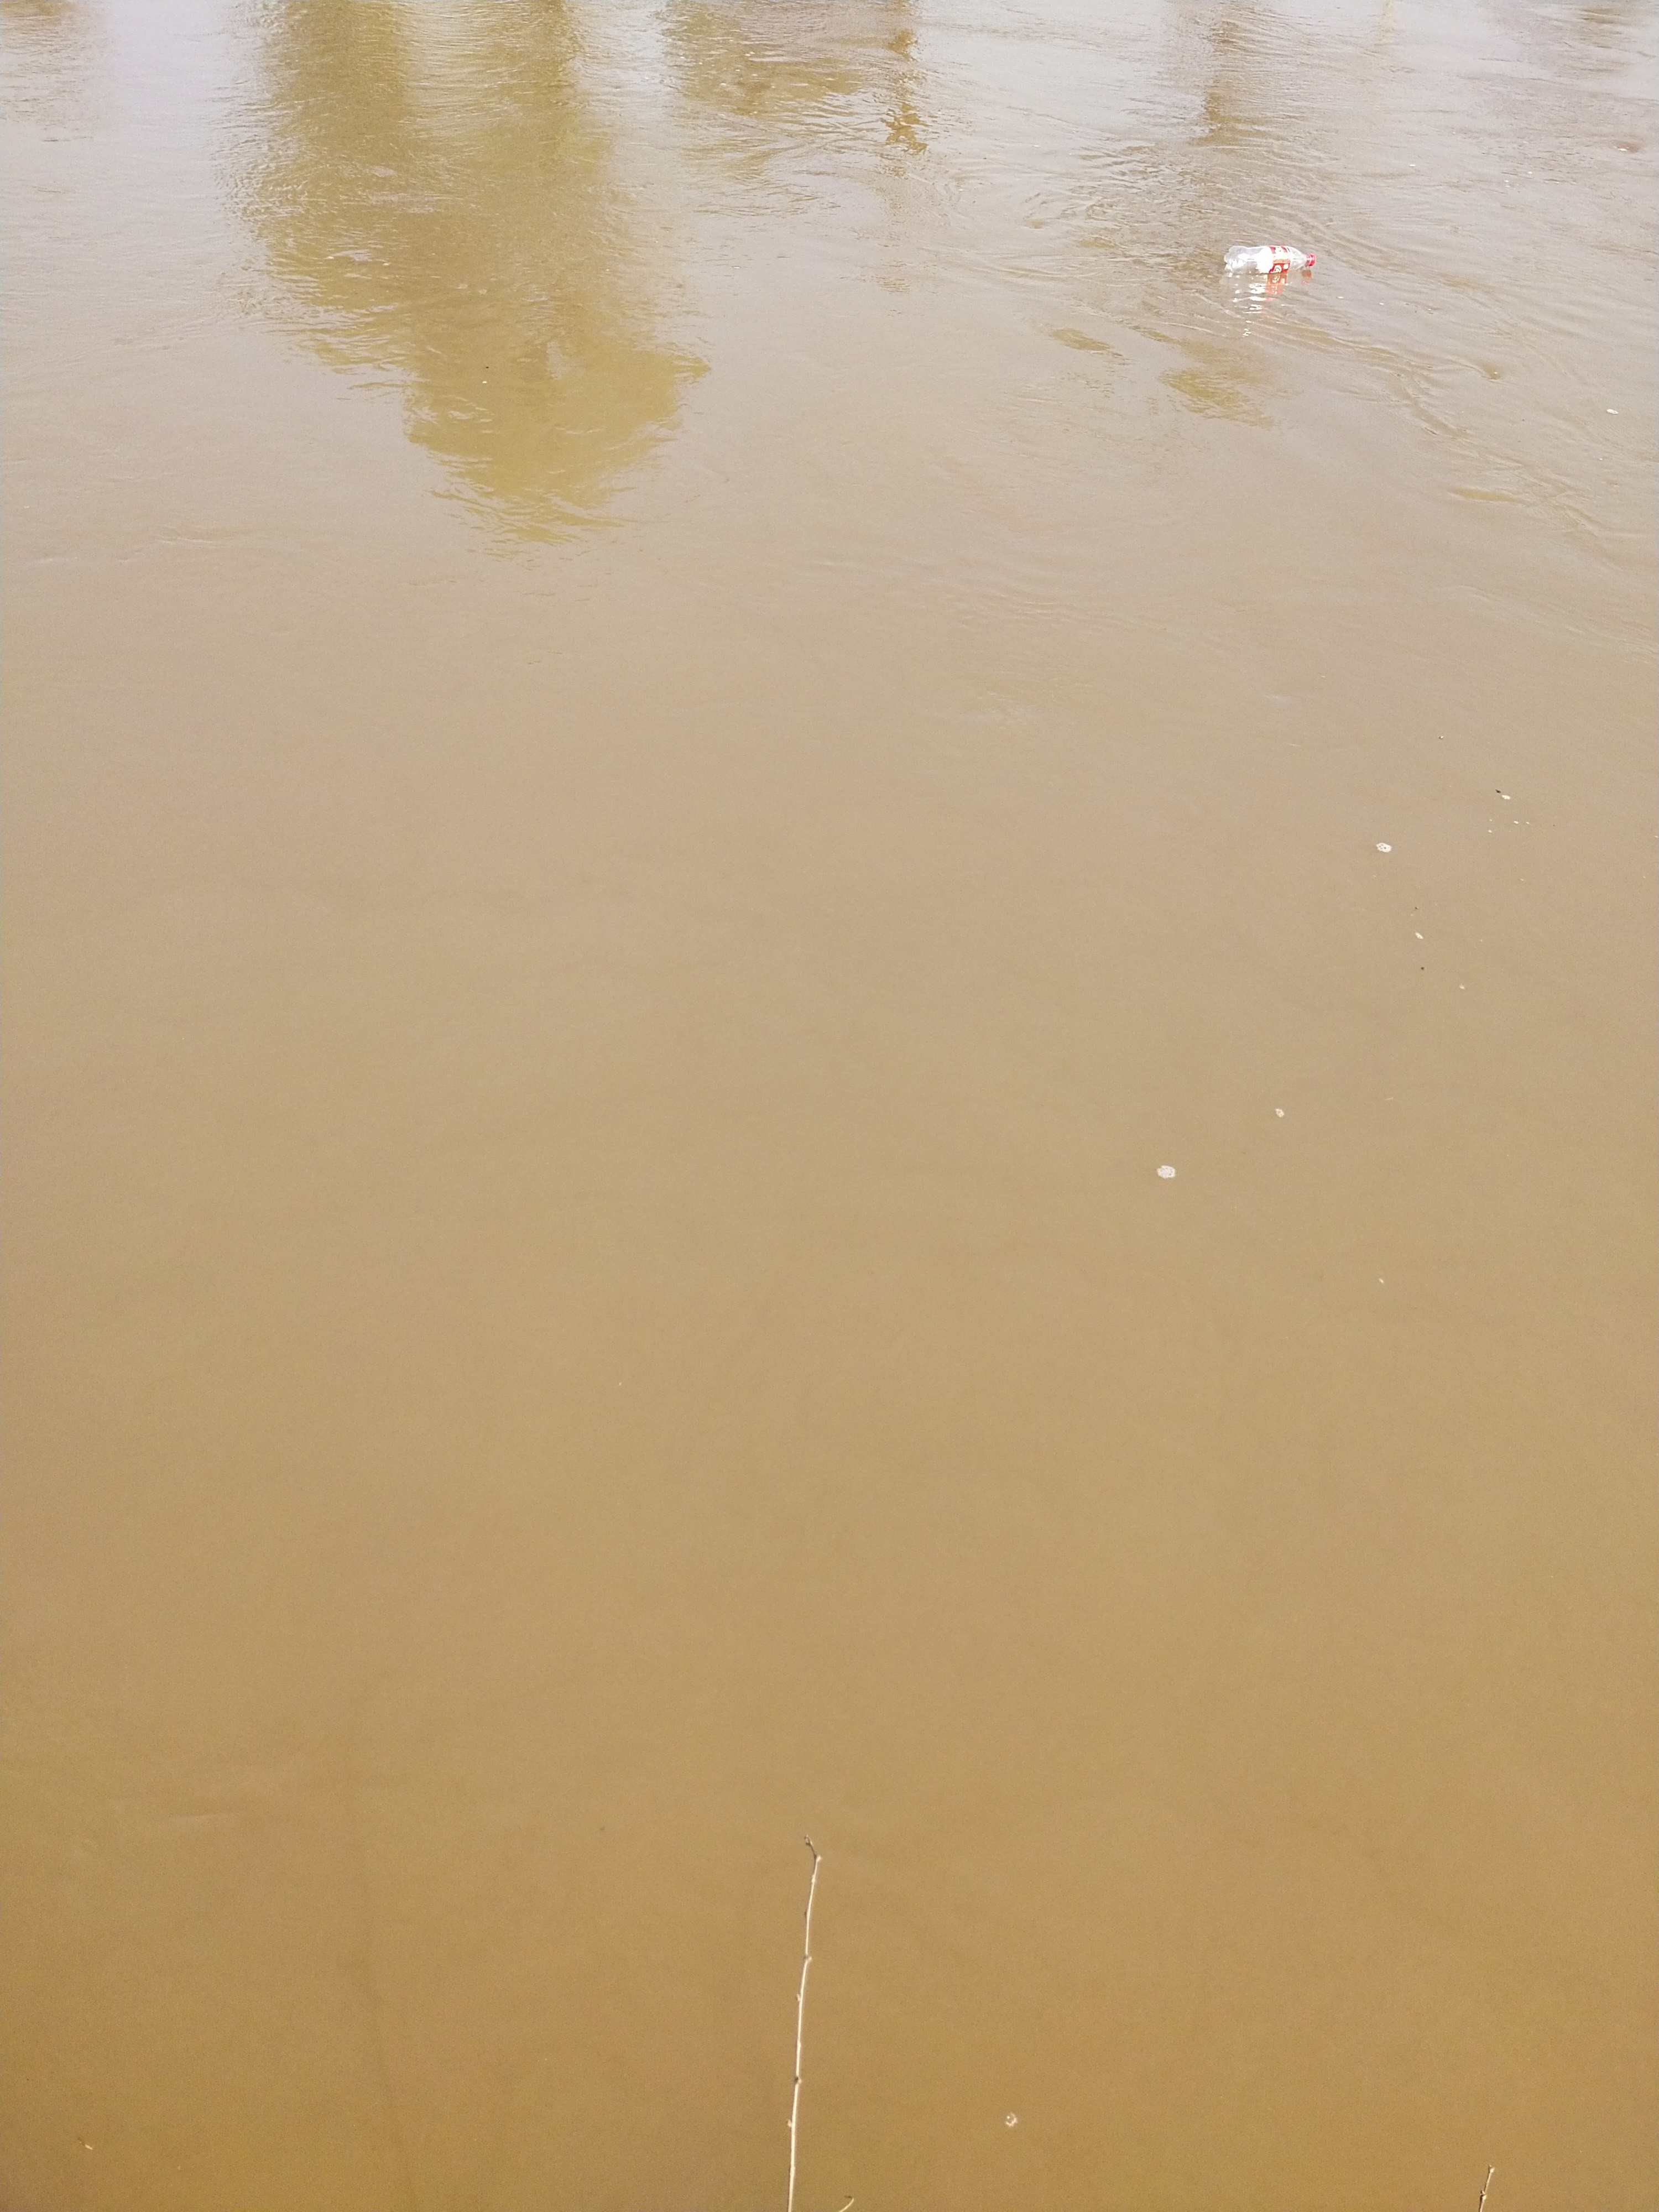Plastic Bottle: (1225, 246, 1316, 273)
